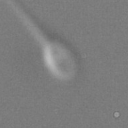normal: (3, 1, 48, 43)
